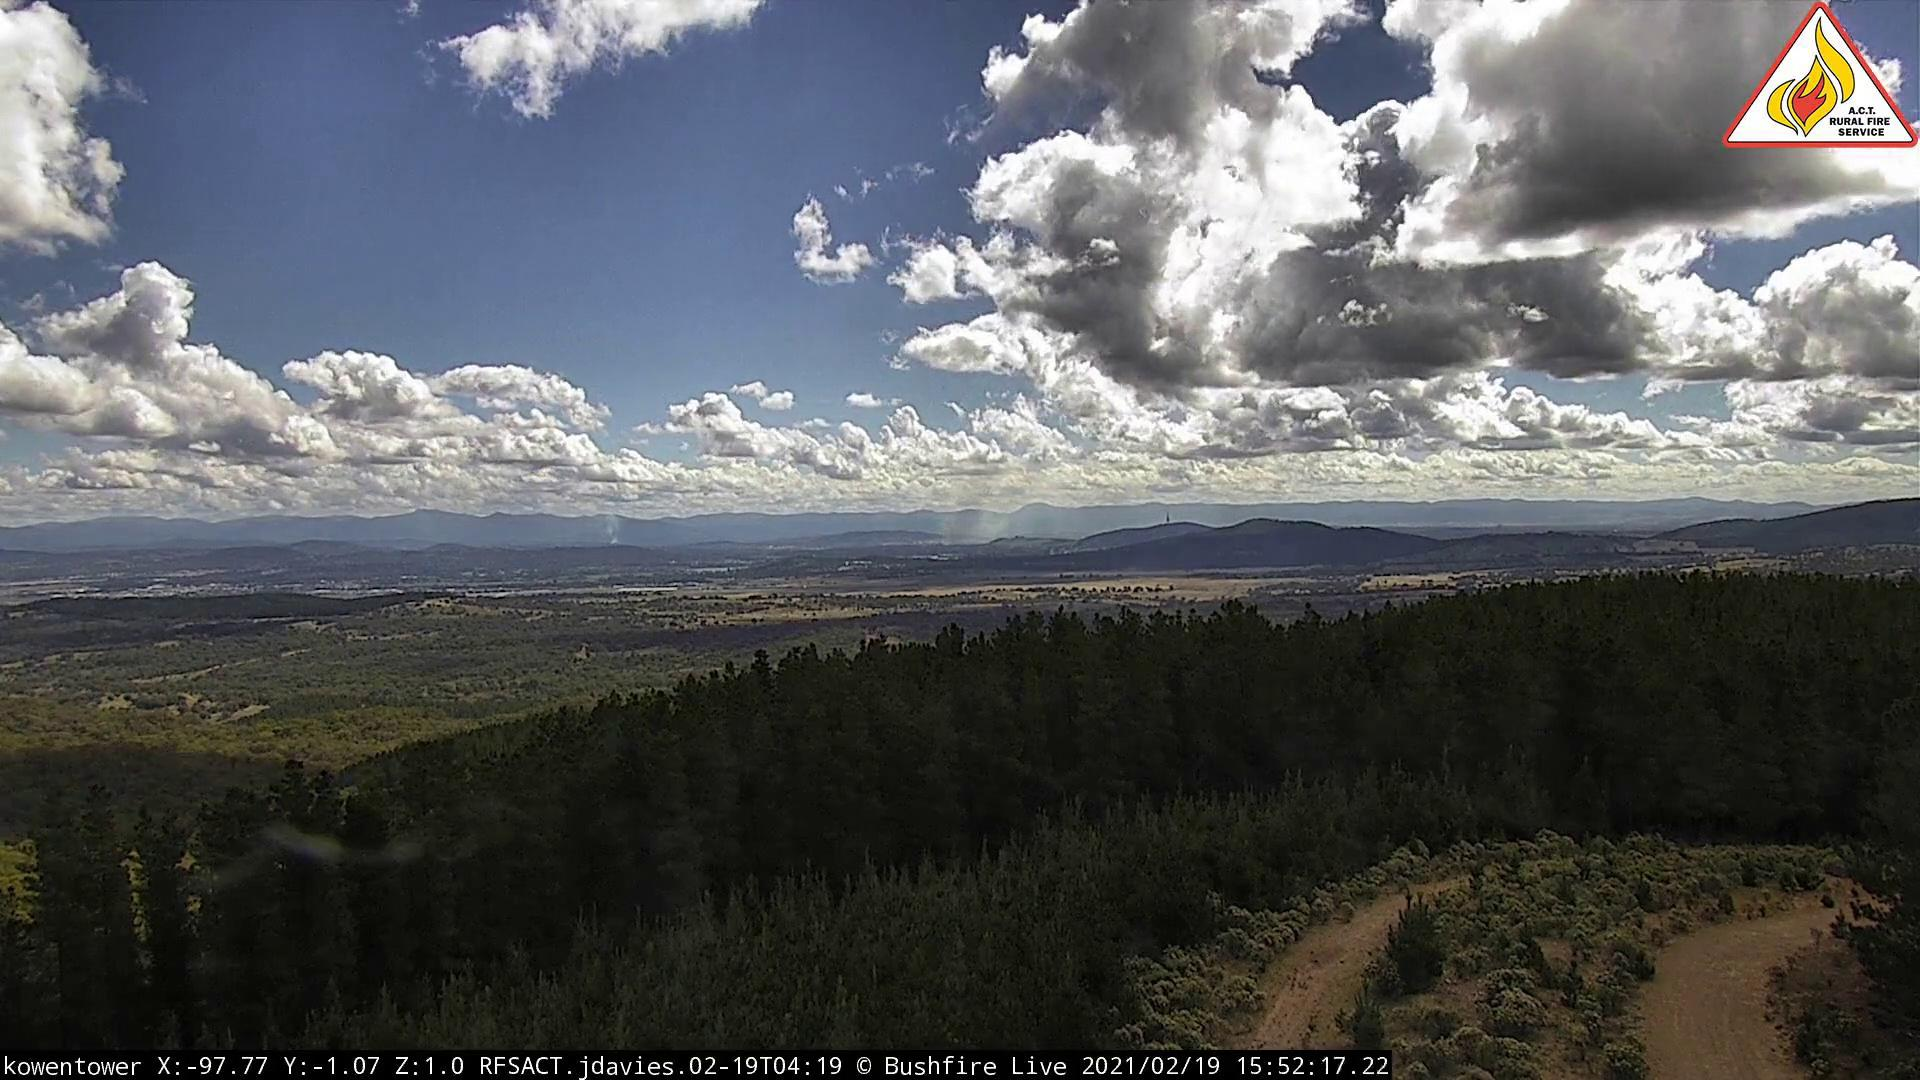Smoke: (942, 496, 1033, 551), (607, 526, 625, 551)
